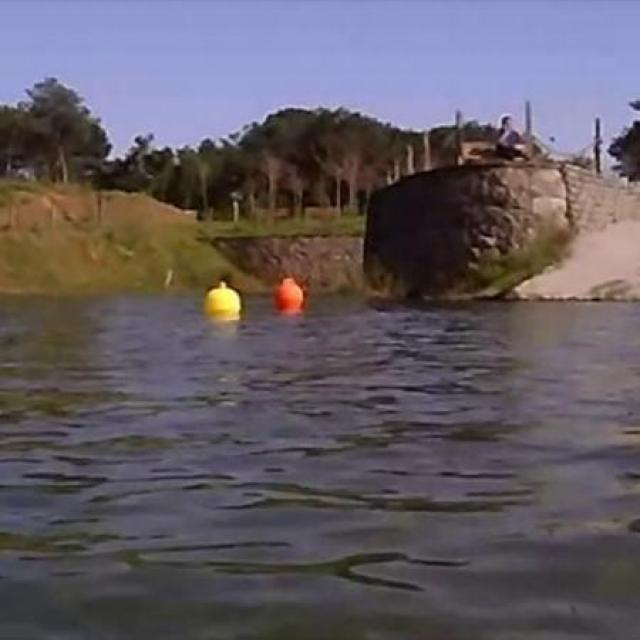buoy: (201, 279, 241, 320), (274, 270, 308, 314)
